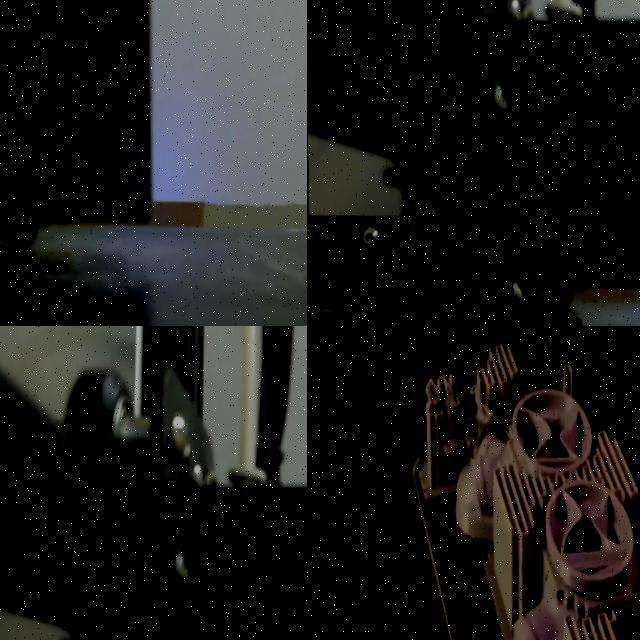spaghetti: (508, 282, 582, 326), (0, 224, 35, 263)
